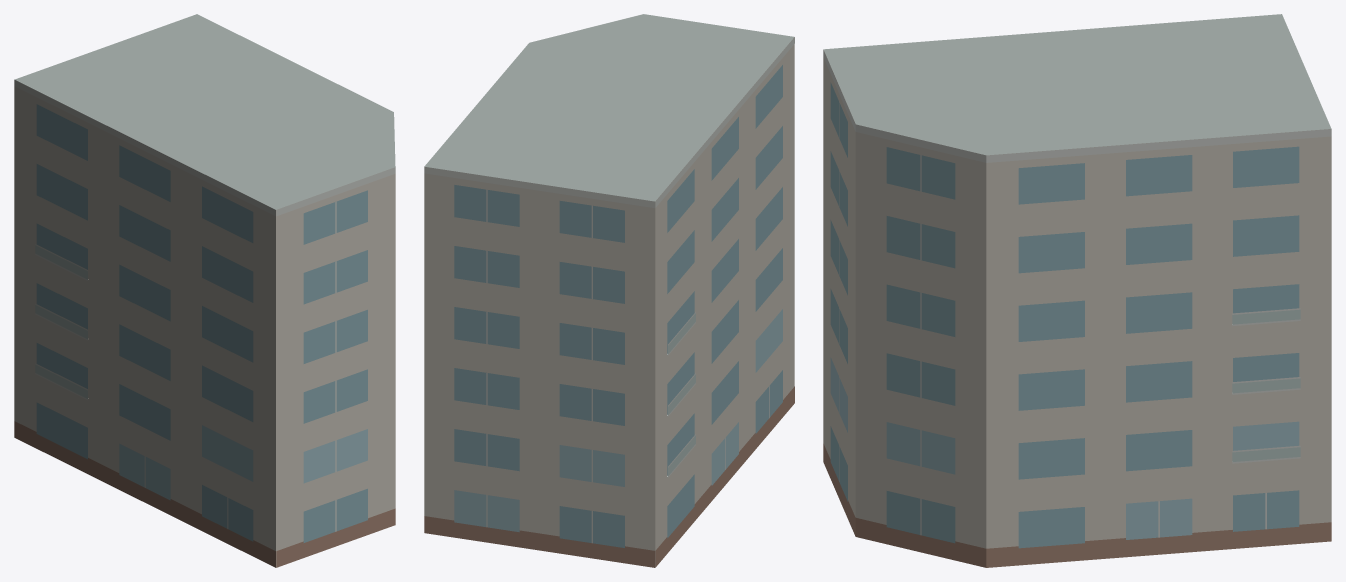
File: survey-upis-32996386.glb
3 views of the same model, side by side, from view 1: azimuth 30°, elevation 25°; view 2: azimuth 150°, elevation 25°; view 3: azimuth 270°, elevation 25° (orthographic). The views are drawn at different scales.
Visible parts, largest first — view 1: survey-upis-32996386.tmp; view 2: survey-upis-32996386.tmp; view 3: survey-upis-32996386.tmp.
Boxes of the visible parts, bbox=[...] form: survey-upis-32996386.tmp: bbox=[14, 14, 395, 567]; survey-upis-32996386.tmp: bbox=[424, 14, 794, 567]; survey-upis-32996386.tmp: bbox=[823, 14, 1331, 567].
Bounding box in the file's own units: 9.79 × 13.3 × 14.86.
